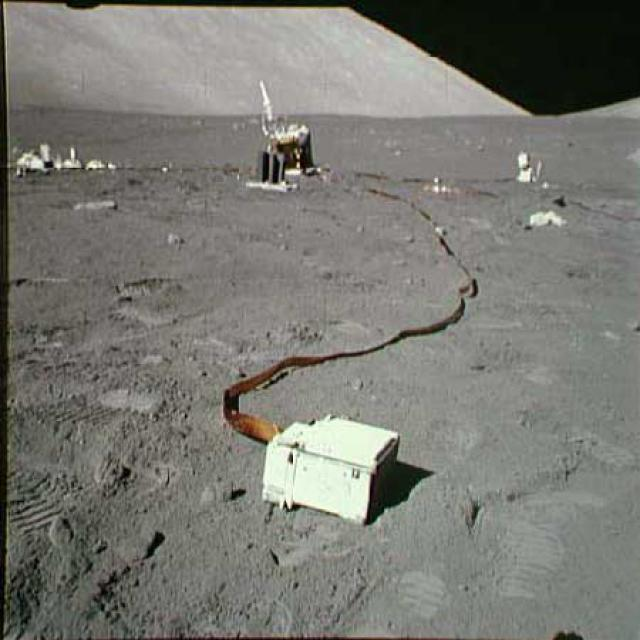artifact: (242, 406, 422, 532), (245, 81, 325, 203), (13, 140, 124, 180), (507, 147, 549, 193)
rock: (74, 196, 118, 212), (161, 227, 187, 249)
